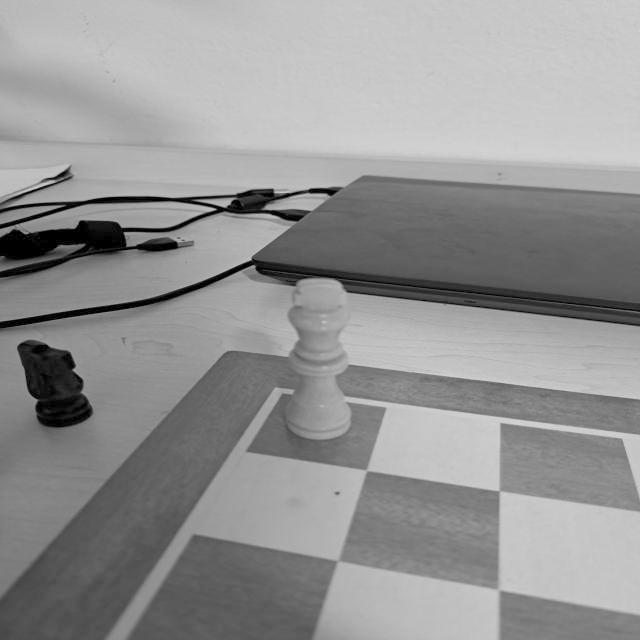chess-table-corners: (238, 370, 329, 418)
